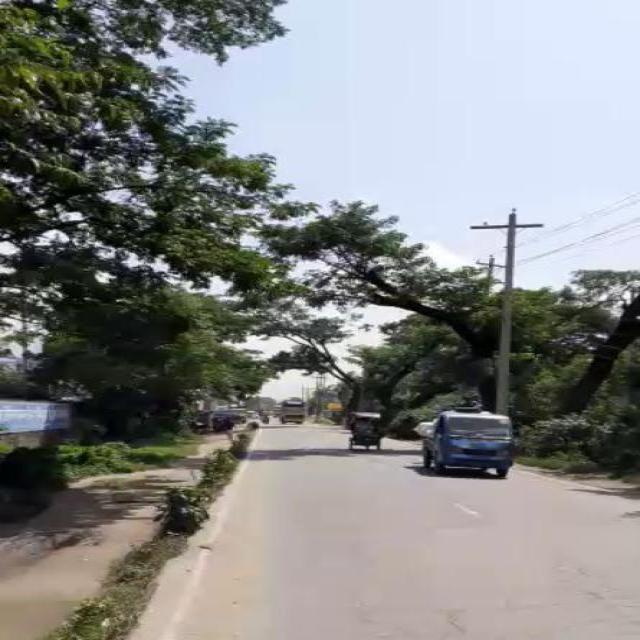11: (414, 408, 512, 477)
18: (276, 397, 304, 421)
Car: (341, 408, 380, 452)
